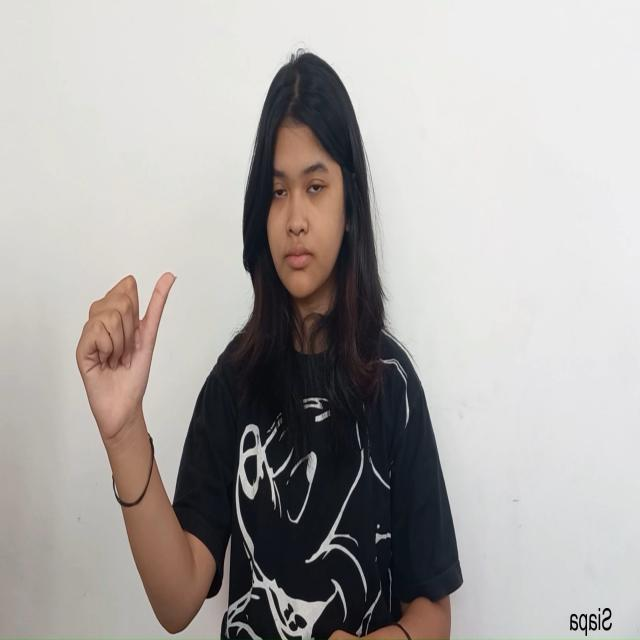Siapa -BISINDO-: (74, 265, 179, 467)
